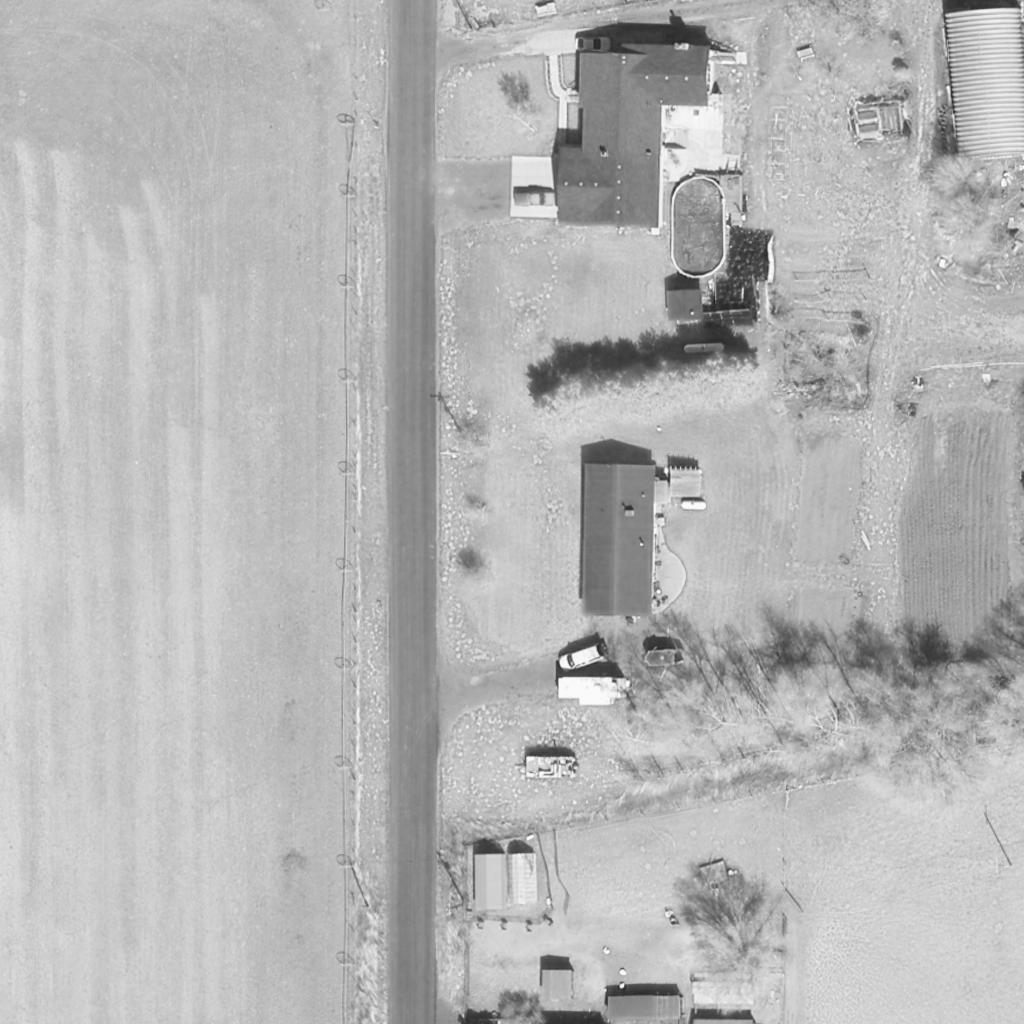vehicle: (556, 678, 630, 700), (554, 646, 612, 672), (514, 191, 556, 207), (574, 35, 610, 49)
